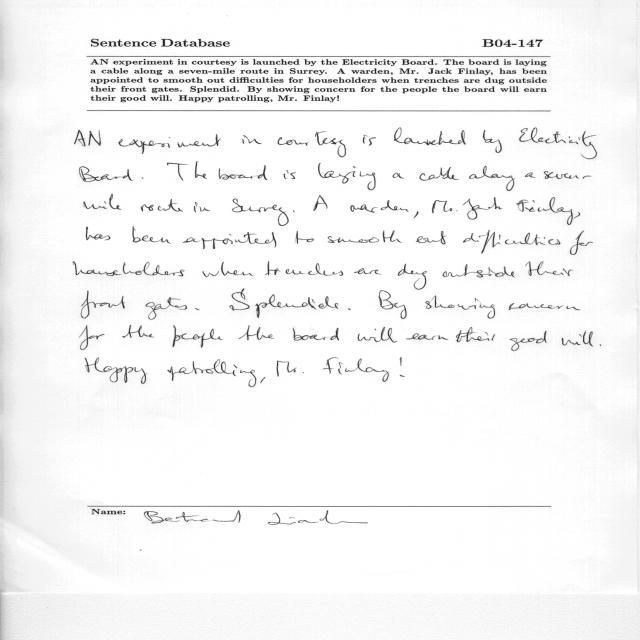word: (230, 289, 338, 318), (519, 128, 597, 160), (168, 359, 257, 387), (463, 230, 560, 253), (118, 134, 221, 154), (278, 132, 346, 158), (73, 262, 185, 277), (85, 357, 147, 384), (323, 357, 389, 382), (425, 296, 495, 319), (232, 198, 289, 226), (183, 232, 276, 249), (517, 197, 573, 225), (318, 163, 376, 190), (81, 291, 125, 319), (394, 128, 466, 145), (173, 325, 224, 348), (265, 261, 343, 276), (469, 166, 515, 191), (443, 264, 515, 278), (328, 230, 402, 243), (146, 297, 187, 320), (463, 197, 503, 220), (80, 166, 133, 182), (379, 290, 407, 319), (350, 200, 409, 213), (203, 262, 254, 277), (167, 162, 207, 181), (398, 264, 427, 290), (510, 331, 547, 351), (219, 165, 268, 180), (526, 261, 574, 276), (132, 227, 171, 244), (80, 325, 105, 350), (358, 327, 397, 343), (84, 194, 122, 210), (293, 328, 339, 341), (456, 327, 495, 342), (570, 230, 593, 255), (420, 167, 460, 181), (141, 199, 183, 212), (239, 325, 274, 340), (562, 331, 594, 347), (509, 303, 581, 310), (75, 130, 101, 147), (483, 130, 502, 153), (277, 361, 304, 377), (122, 325, 154, 338), (416, 231, 447, 244), (544, 171, 591, 179), (432, 200, 457, 213), (86, 227, 110, 240), (407, 333, 449, 340), (296, 231, 314, 244), (314, 195, 328, 211), (242, 135, 262, 144), (354, 268, 382, 274), (194, 202, 210, 212), (363, 135, 376, 146), (283, 170, 296, 179), (400, 357, 405, 377), (393, 173, 404, 179), (525, 173, 535, 178), (574, 212, 580, 219), (414, 212, 419, 219), (261, 377, 266, 383), (195, 308, 200, 310), (348, 308, 351, 310), (293, 211, 295, 213), (142, 177, 143, 179), (600, 344, 601, 346)
